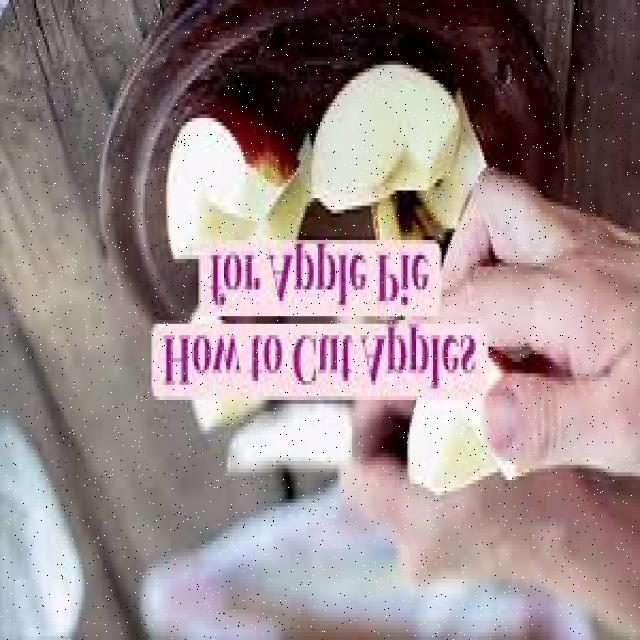Apple: (314, 71, 464, 206), (170, 120, 288, 252), (404, 382, 522, 499)
